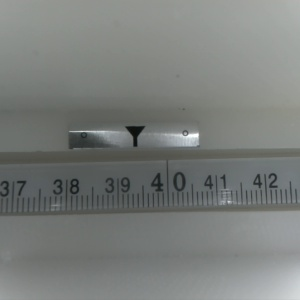0: (172, 172, 186, 191)
1: (209, 175, 216, 189)
2: (267, 173, 277, 188)
3: (104, 177, 114, 193), (52, 179, 62, 195), (0, 181, 9, 197)
4: (150, 172, 164, 192), (252, 173, 262, 188)
7: (16, 181, 26, 196)
8: (69, 178, 79, 194)
9: (120, 177, 130, 193)
finger: (122, 126, 146, 148)
